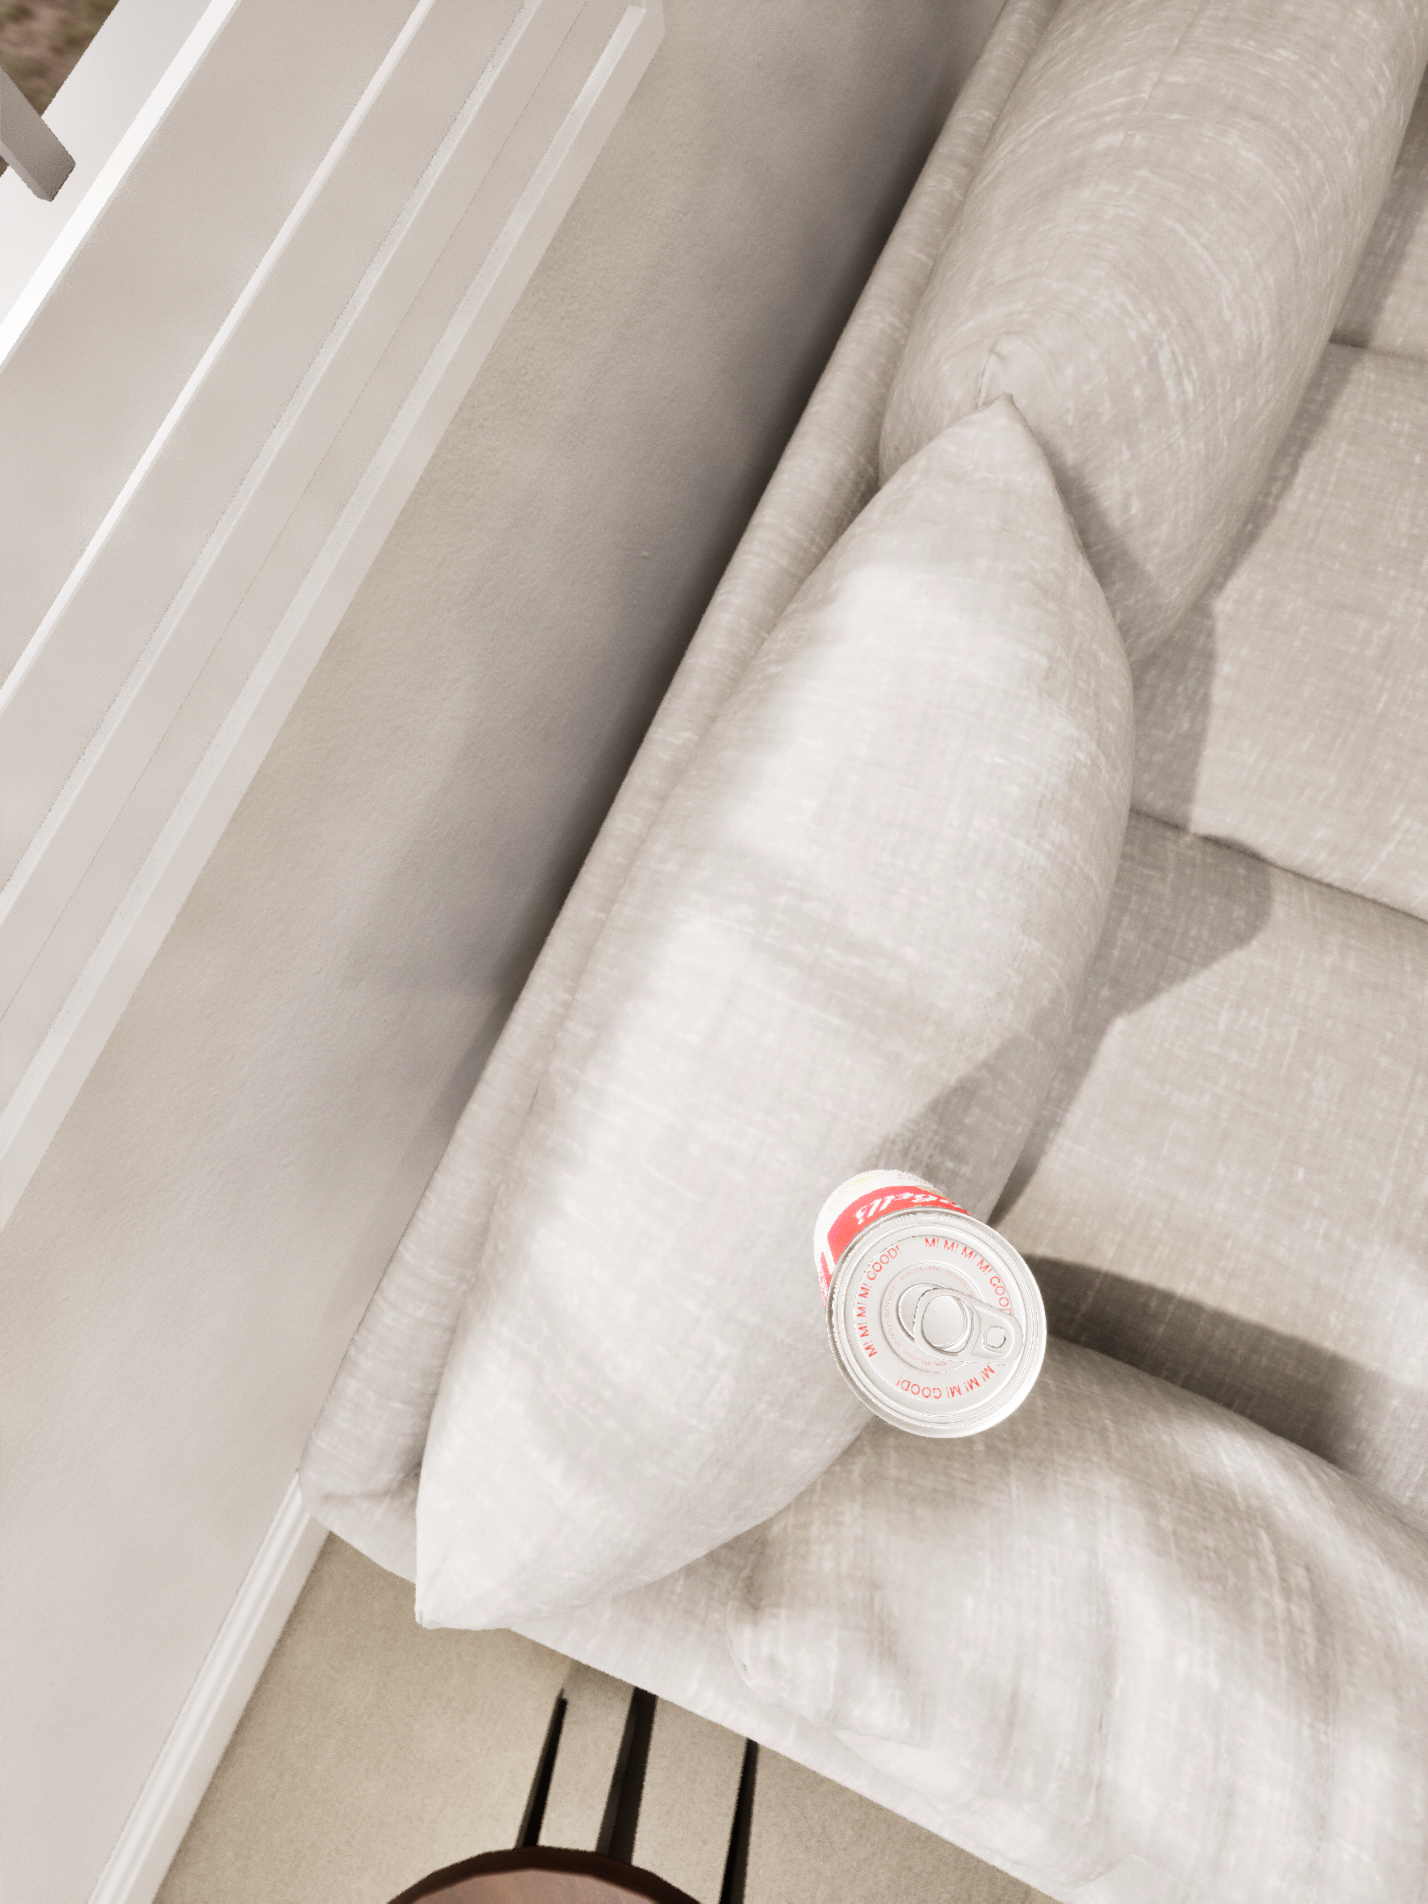cheerios: (66, 102, 1428, 1037)
